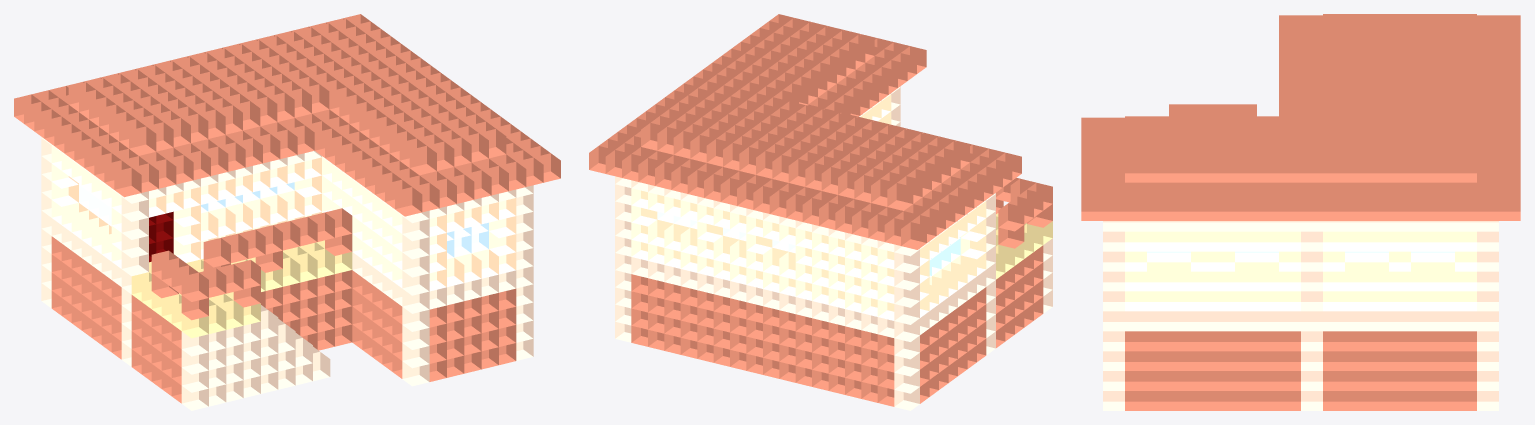
File: the_adventurer_s_guild.gltf
3 renders of one model, left to right at view 1: azimuth 30°, elevation 25°; view 2: azimuth 150°, elevation 25°; view 3: azimuth 270°, elevation 25°, orthographic. The views are drawn at different scales.
Parts seen in each view (by area): view 1: voxel_86, voxel_472, voxel_181, voxel_8, voxel_618, voxel_351, voxel_462, voxel_581, voxel_198, voxel_215, voxel_53, voxel_559 (+69 smaller); view 2: voxel_352, voxel_968, voxel_1228, voxel_358, voxel_657, voxel_1220, voxel_955, voxel_962, voxel_1154, voxel_1208, voxel_1082, voxel_1136 (+44 smaller); view 3: voxel_122, voxel_142, voxel_156, voxel_176, voxel_226, voxel_274, voxel_322, voxel_342, voxel_403, voxel_423, voxel_448, voxel_504 (+178 smaller).
Boxes of the visible parts, x1=… form: voxel_86: x1=409, y1=145, x2=436, y2=175; voxel_472: x1=114, y1=167, x2=141, y2=197; voxel_181: x1=181, y1=272, x2=208, y2=301; voxel_8: x1=395, y1=187, x2=422, y2=216; voxel_618: x1=129, y1=126, x2=156, y2=155; voxel_351: x1=203, y1=238, x2=230, y2=267; voxel_462: x1=287, y1=125, x2=314, y2=154; voxel_581: x1=121, y1=251, x2=148, y2=276; voxel_198: x1=181, y1=331, x2=208, y2=356; voxel_215: x1=181, y1=368, x2=208, y2=392; voxel_53: x1=402, y1=289, x2=429, y2=313; voxel_559: x1=121, y1=215, x2=148, y2=239; voxel_352: x1=998, y1=203, x2=1024, y2=231; voxel_968: x1=887, y1=183, x2=913, y2=210; voxel_1228: x1=901, y1=222, x2=926, y2=249; voxel_358: x1=998, y1=225, x2=1024, y2=248; voxel_657: x1=960, y1=235, x2=986, y2=259; voxel_1220: x1=769, y1=190, x2=794, y2=217; voxel_955: x1=673, y1=131, x2=699, y2=158; voxel_962: x1=788, y1=159, x2=814, y2=186; voxel_1154: x1=894, y1=335, x2=919, y2=359; voxel_1208: x1=894, y1=387, x2=919, y2=410; voxel_1082: x1=894, y1=267, x2=919, y2=290; voxel_1136: x1=894, y1=318, x2=919, y2=341; voxel_122: x1=1147, y1=153, x2=1168, y2=182; voxel_142: x1=1147, y1=262, x2=1168, y2=291; voxel_156: x1=1169, y1=153, x2=1190, y2=182; voxel_176: x1=1169, y1=262, x2=1190, y2=291; voxel_226: x1=1191, y1=153, x2=1212, y2=182; voxel_274: x1=1213, y1=153, x2=1234, y2=182; voxel_322: x1=1235, y1=153, x2=1256, y2=182; voxel_342: x1=1235, y1=262, x2=1256, y2=291; voxel_403: x1=1257, y1=153, x2=1278, y2=182; voxel_423: x1=1257, y1=262, x2=1278, y2=291; voxel_448: x1=1279, y1=153, x2=1300, y2=182; voxel_504: x1=1301, y1=153, x2=1322, y2=182.
Bounding box in the file's own units: 10.53 × 6.32 × 10.53.
